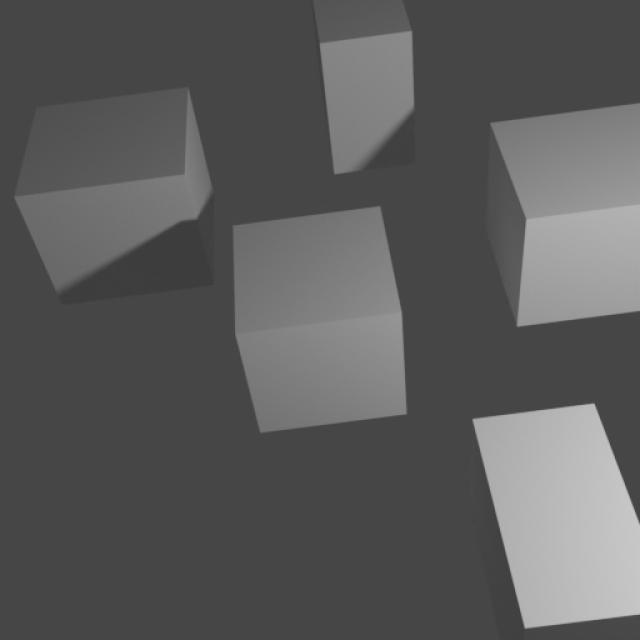Cube: (15, 87, 213, 305), (235, 205, 408, 432), (475, 402, 640, 628), (485, 104, 640, 326), (314, 0, 416, 173)
